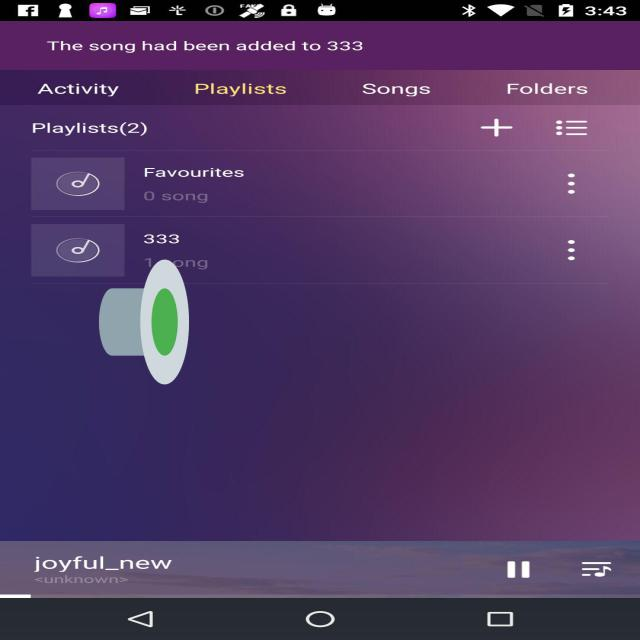social proof: (99, 207, 189, 437)
